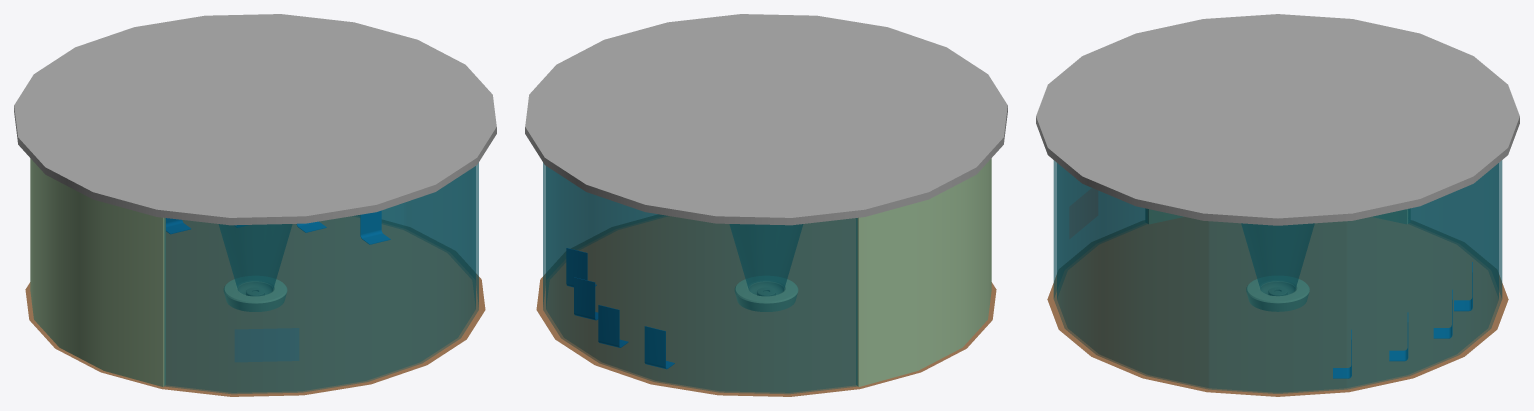
File: common_lobby_master_file_v1.fbx
3 renders of one model, left to right at view 1: azimuth 30°, elevation 25°; view 2: azimuth 150°, elevation 25°; view 3: azimuth 270°, elevation 25°, orthographic.
Visible parts, largest first — view 1: roof, polySurface45, ground, back_wall, cone_fox, pPlane1, projector, standee1; view 2: roof, polySurface45, ground, back_wall, cone_fox, projector, standee3, standee4, standee2, standee1; view 3: roof, polySurface45, ground, cone_fox, projector, pPlane1, back_wall.
Boxes of the visible parts, x1,y1,x2,y2 form: roof: (14,14,496,225); polySurface45: (164,163,478,393); ground: (25,216,485,396); back_wall: (30,158,165,386); cone_fox: (219,224,291,287); pPlane1: (235,328,298,361); projector: (224,279,286,311); standee1: (360,211,390,244); roof: (525,14,1007,225); polySurface45: (543,163,857,393); ground: (536,216,996,396); back_wall: (856,158,991,386); cone_fox: (730,224,802,287); projector: (735,279,797,311); standee3: (598,305,627,347); standee4: (645,326,674,368); standee2: (574,277,597,319); standee1: (566,248,596,287); roof: (1036,14,1519,225); polySurface45: (1053,160,1502,393); ground: (1047,217,1508,396); cone_fox: (1242,223,1313,288); projector: (1246,279,1309,311); pPlane1: (1069,188,1097,238); back_wall: (1146,209,1409,223).
Bounding box in the file's own units: 15 × 6.27 × 15.
